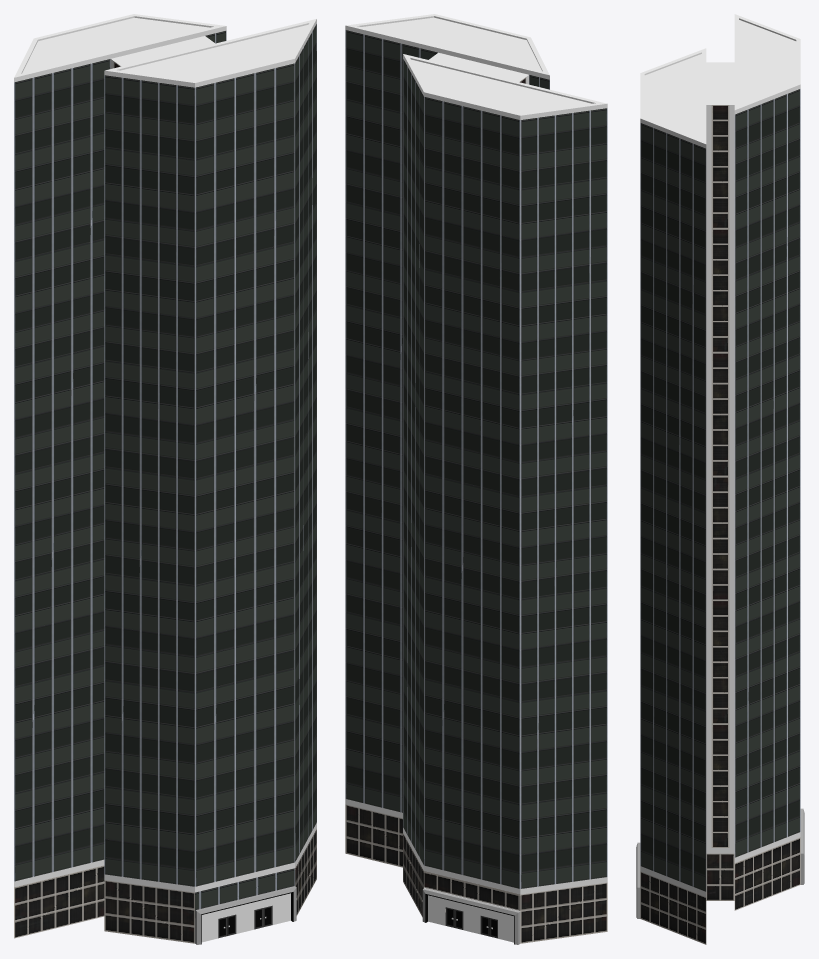
3 views of the same model, side by side, from view 1: azimuth 30°, elevation 25°; view 2: azimuth 150°, elevation 25°; view 3: azimuth 270°, elevation 25° (orthographic). The views are drawn at different scales.
Visible parts, largest first — view 1: BC-072; view 2: BC-072; view 3: BC-072.
Boxes of the visible parts, x1,y1,x2,y2 form: BC-072: [14, 14, 316, 944]; BC-072: [345, 14, 607, 944]; BC-072: [636, 14, 804, 944].
Size of what is drawn, in the model's own units: 40.67 by 116 by 22.15.
